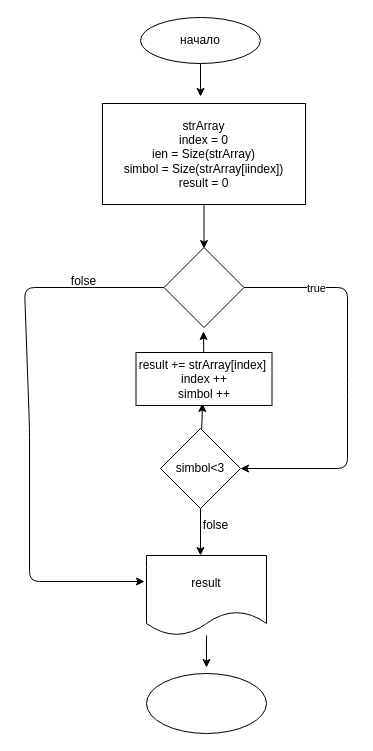
Some shapes in this 373 by 751 pixel diagram are drawn without their labels. The shapes that lost their labels are listed below. From the top down, each one's centre as x and y in pixels, then its label:
the point at 203,287: i<len
the point at 206,703: конец
